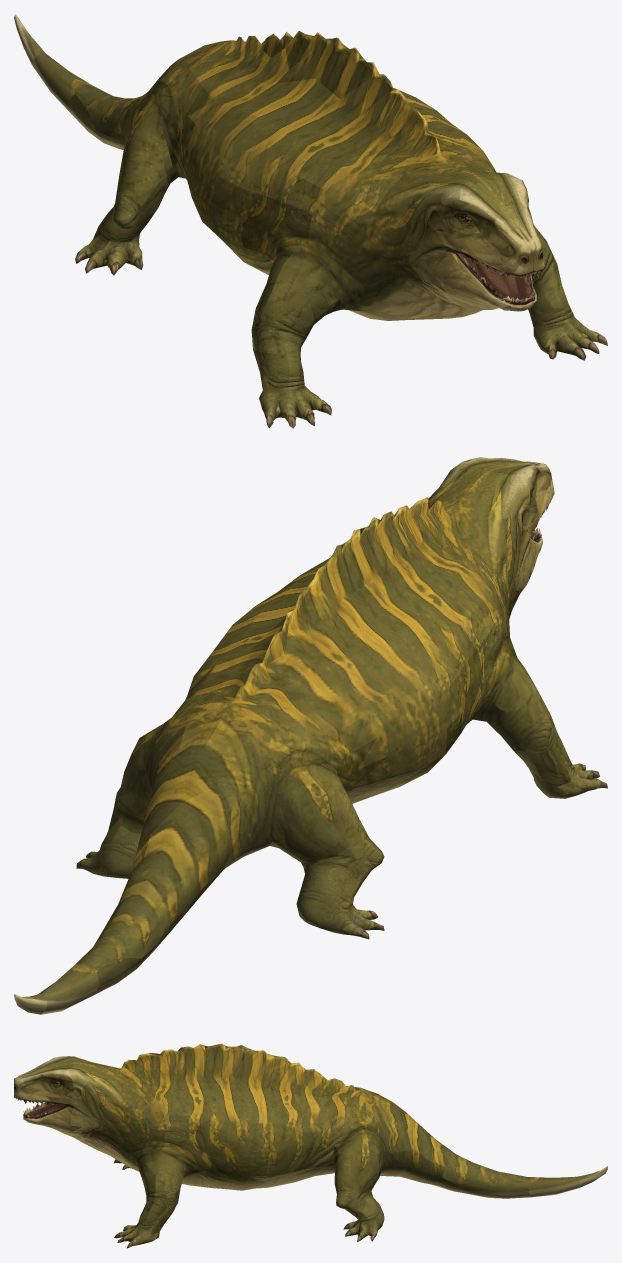
Rendered from CRT-031.glb.
3 views of the same model, one above another, from view 1: azimuth 30°, elevation 25°; view 2: azimuth 150°, elevation 25°; view 3: azimuth 270°, elevation 25° (orthographic). The views are drawn at different scales.
Visible parts, largest first — view 1: mesh_node; view 2: mesh_node; view 3: mesh_node.
Part boxes in pixels (x1=…): mesh_node: x1=14, y1=14, x2=607, y2=428; mesh_node: x1=14, y1=457, x2=607, y2=1014; mesh_node: x1=14, y1=1043, x2=607, y2=1248.
Size of the model in its own units: 0.375 by 0.2939 by 1.
1 material, 1 textured.
